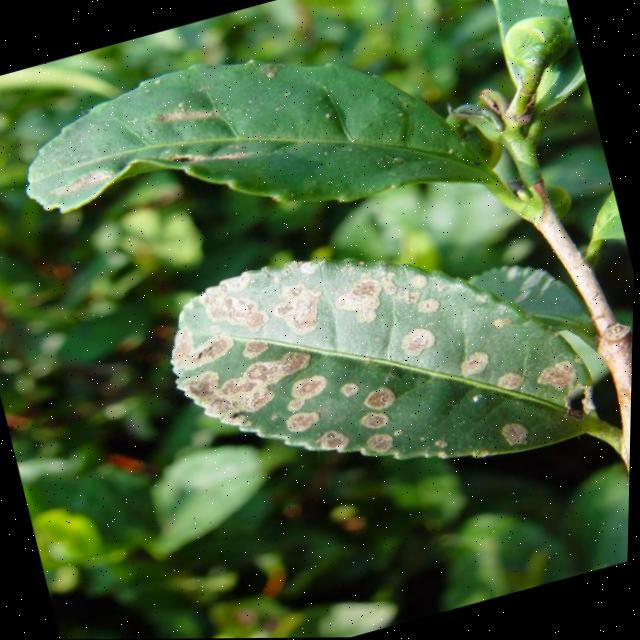Tea algae leaf spot: (157, 232, 579, 528)
